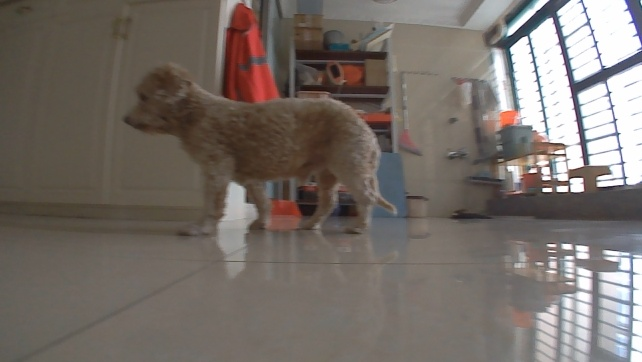dog: (120, 60, 400, 239)
